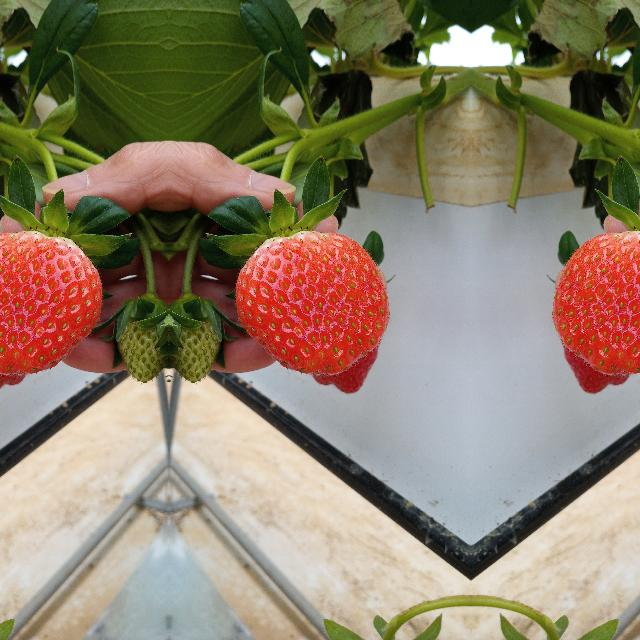Health_100: (232, 230, 390, 378), (0, 230, 104, 378), (551, 230, 640, 378)
Health_25: (170, 270, 218, 392), (118, 270, 166, 392)
